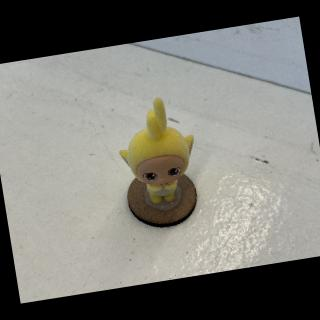teletubby: (119, 98, 194, 204)
